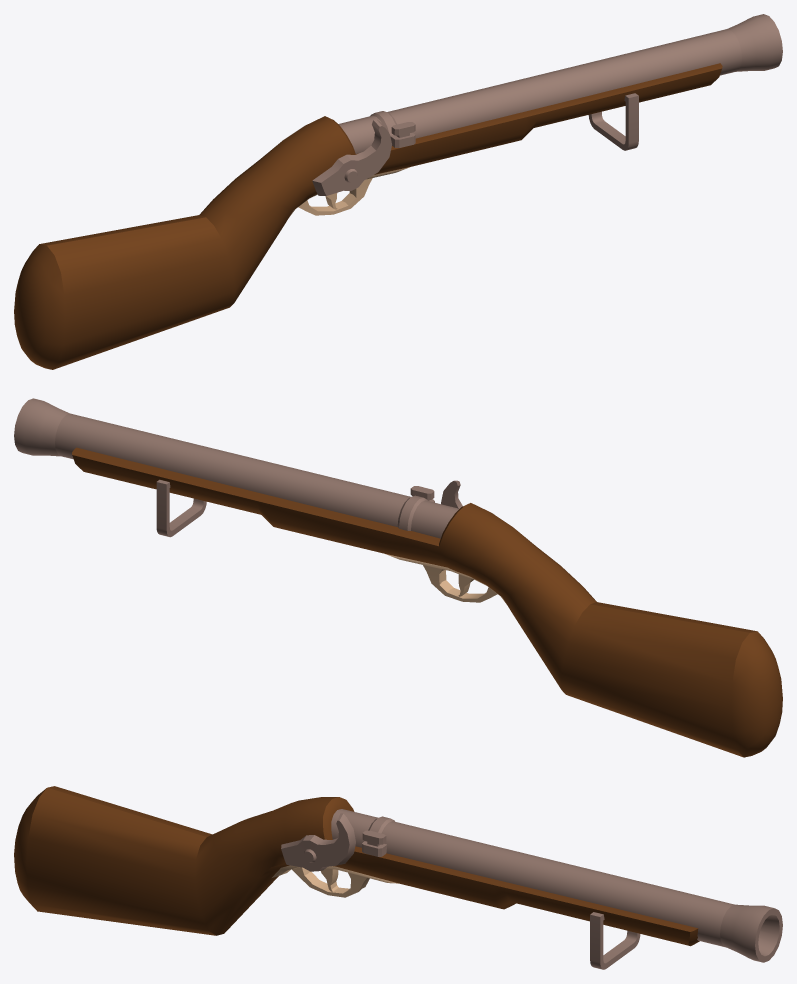
Rendered from quaternius-pirate-weapon-rifle.glb.
3 views of the same model, one above another, from view 1: azimuth 30°, elevation 25°; view 2: azimuth 150°, elevation 25°; view 3: azimuth 330°, elevation 25° (orthographic).
Parts seen in each view (by area): view 1: Weapon_Rifle; view 2: Weapon_Rifle; view 3: Weapon_Rifle.
Boxes of the visible parts, x1=… form: Weapon_Rifle: x1=14, y1=14, x2=782, y2=369; Weapon_Rifle: x1=14, y1=398, x2=782, y2=757; Weapon_Rifle: x1=14, y1=786, x2=782, y2=969.
Bounding box in the file's own units: 2.9 × 0.6856 × 0.2848.
Materials: 1 (1 with a texture image).
